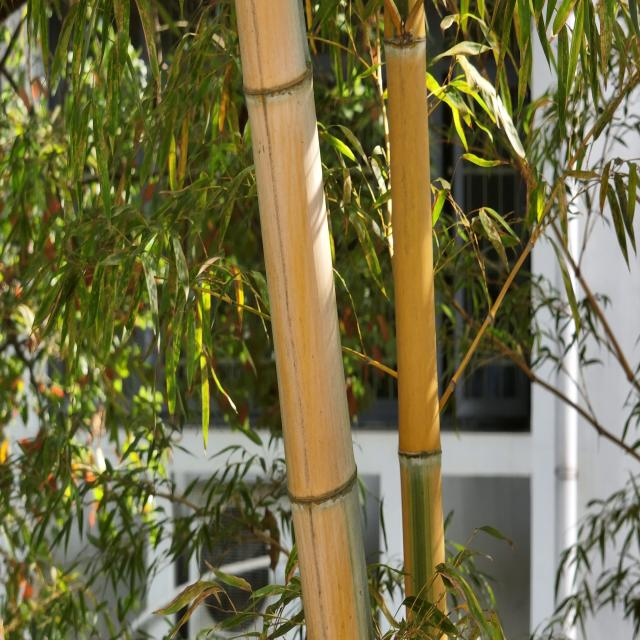Bamboo-shoots: (235, 0, 373, 640), (386, 0, 446, 640)
